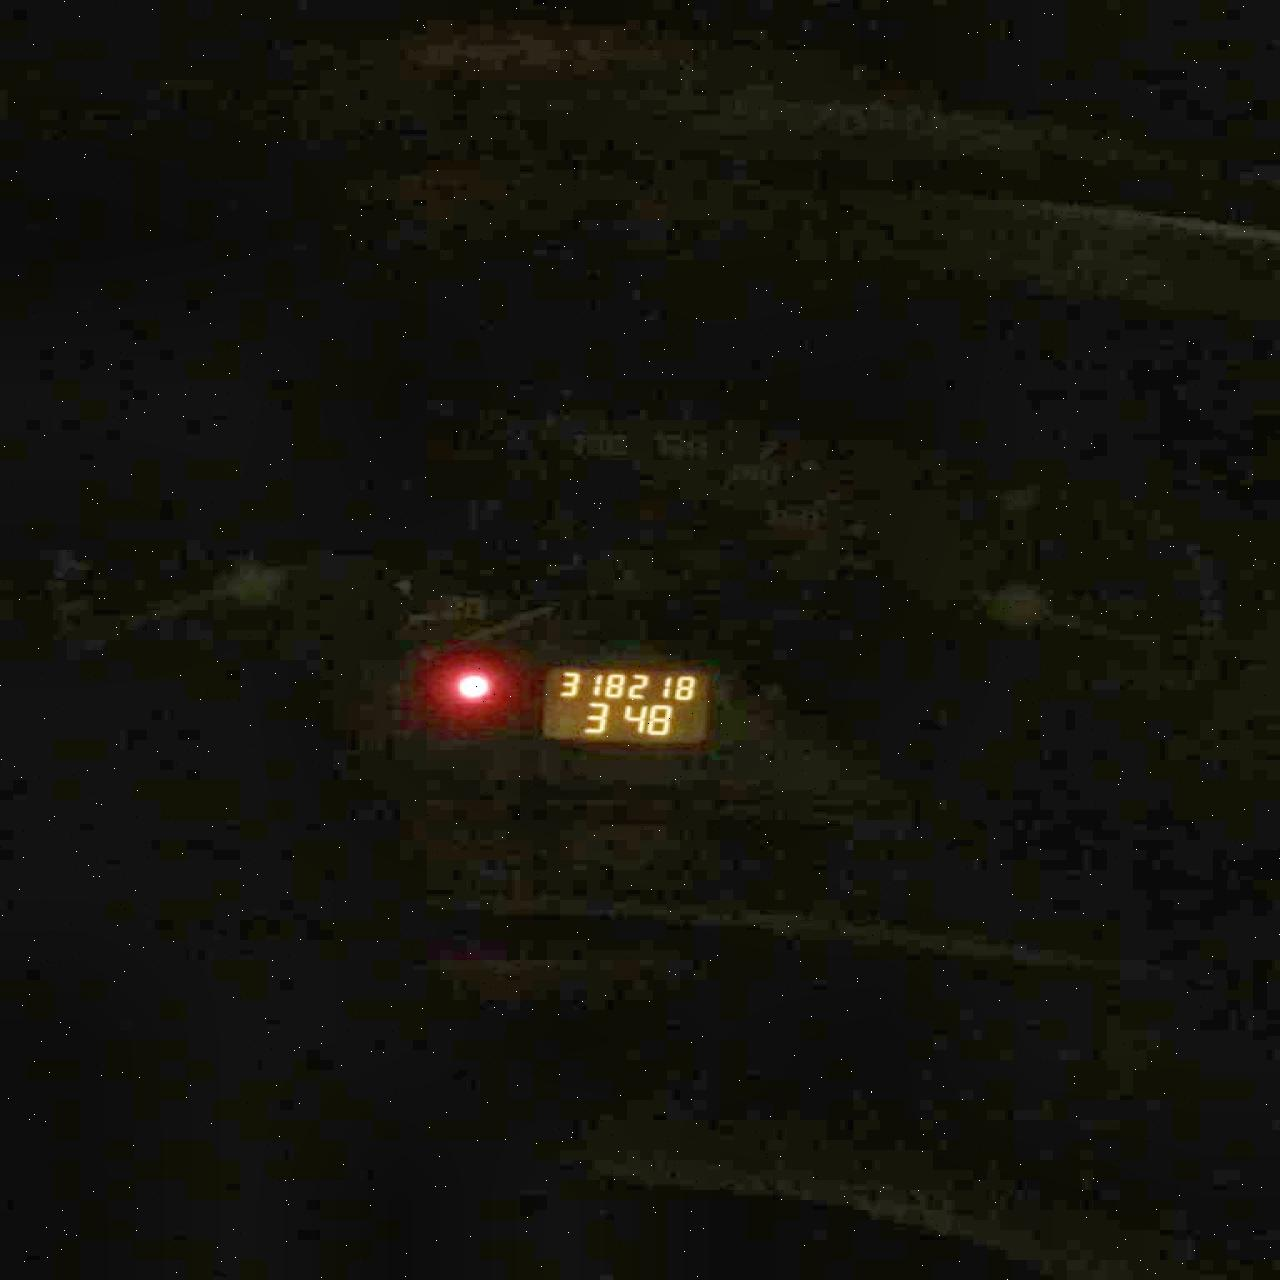1: (591, 670, 601, 696), (660, 674, 670, 699)
2: (627, 672, 648, 699)
3: (580, 700, 608, 734), (557, 668, 580, 697)
4: (620, 702, 644, 733)
8: (647, 703, 670, 735), (673, 674, 695, 700), (605, 672, 621, 699)
odometer: (542, 662, 708, 742)
